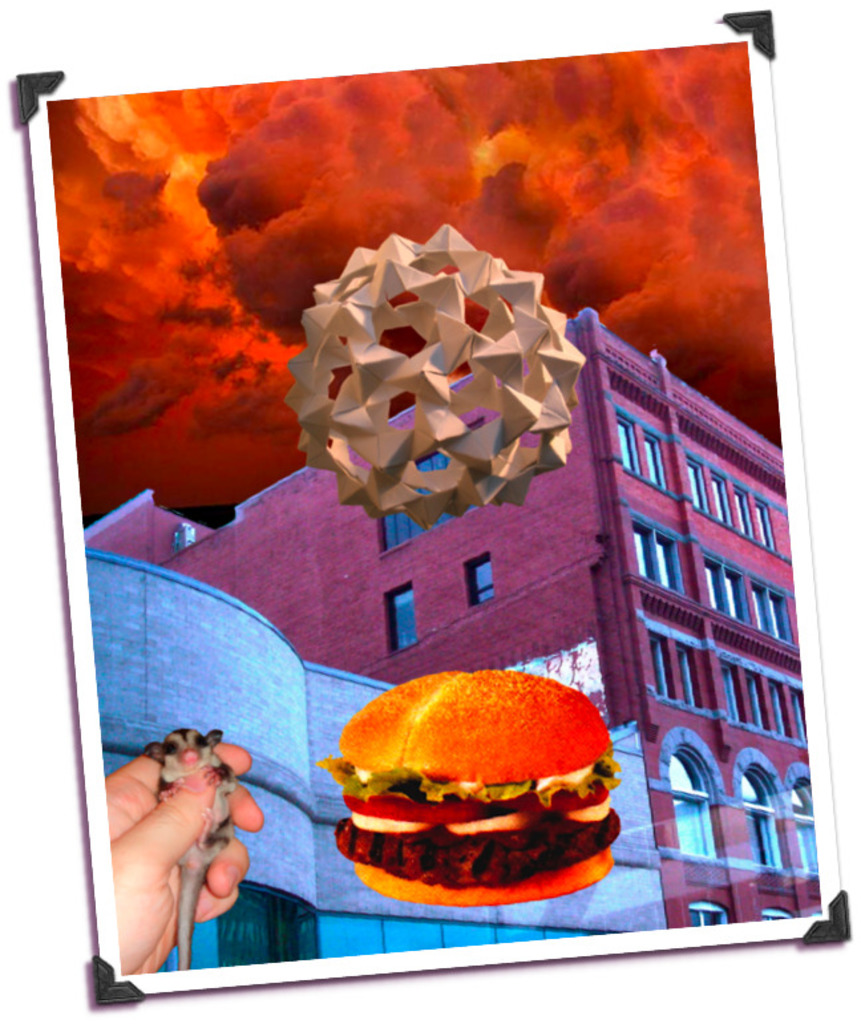Hamburger: (314, 673, 620, 908)
